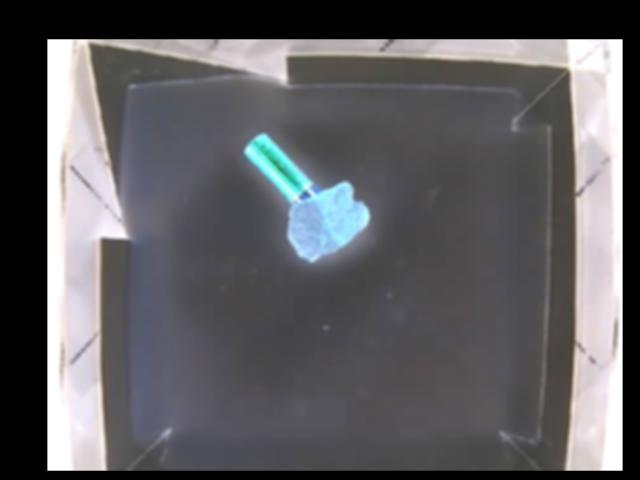Battery: (242, 134, 318, 202)
Brisk: (285, 181, 366, 260)
